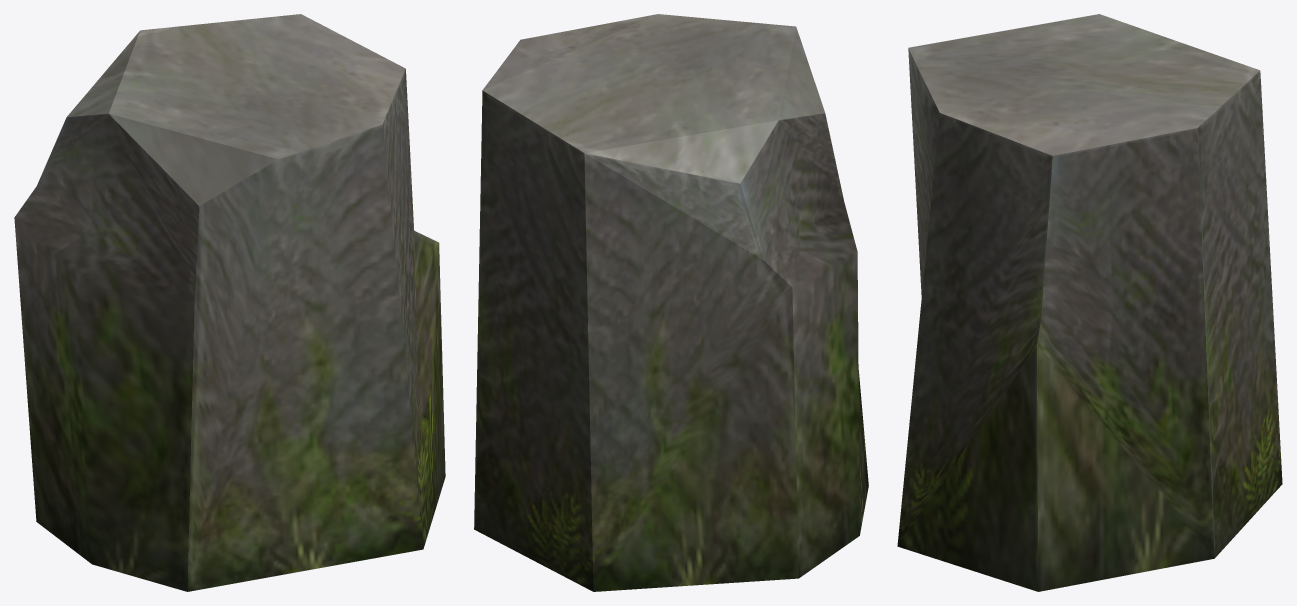
File: qiao_dw_44.FBX
The picture shows the model from 3 angles, left to right: view 1: azimuth 30°, elevation 25°; view 2: azimuth 150°, elevation 25°; view 3: azimuth 270°, elevation 25°; orthographic projection. The views are drawn at different scales.
Visible parts, largest first — view 1: qiao_dw_44; view 2: qiao_dw_44; view 3: qiao_dw_44.
Part boxes in pixels (bbox=[...]): qiao_dw_44: bbox=[14, 14, 445, 591]; qiao_dw_44: bbox=[474, 14, 868, 591]; qiao_dw_44: bbox=[897, 14, 1282, 591].
Size of what is drawn, in the model's own units: 370 by 413 by 335.
